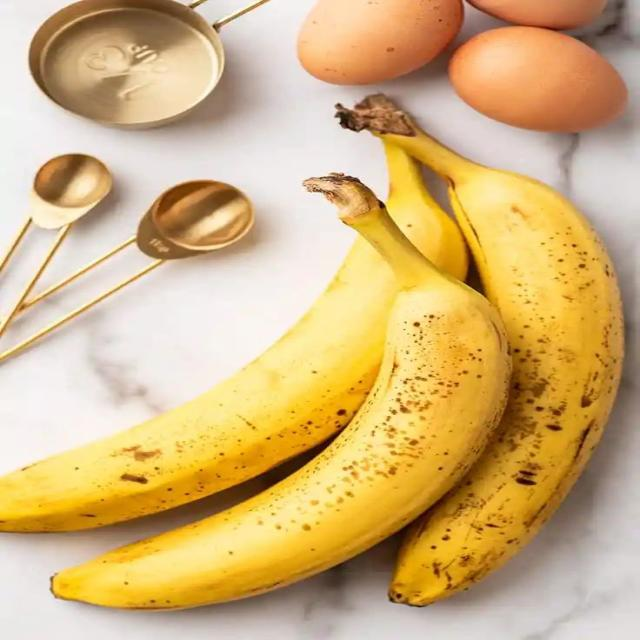egg raw: (449, 26, 627, 132), (298, 0, 463, 85), (468, 0, 604, 30)
unpeal banana: (53, 176, 510, 609), (340, 96, 623, 605), (0, 241, 397, 532)
